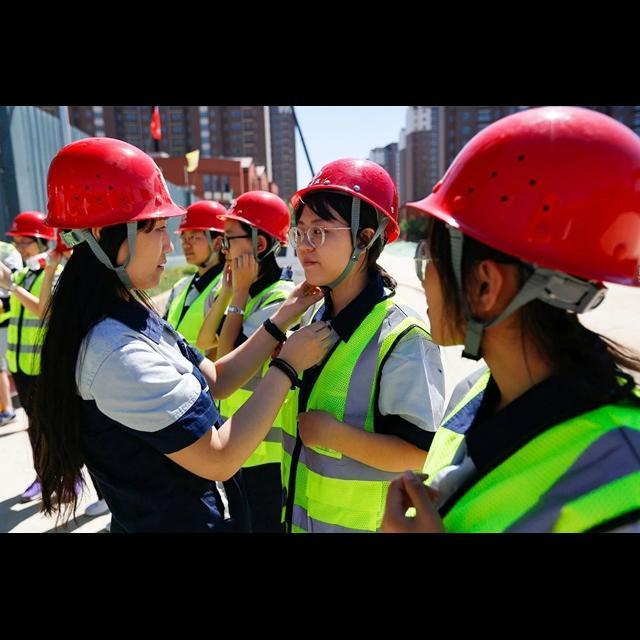helmet: (392, 112, 640, 288), (38, 138, 208, 230), (294, 150, 398, 249), (222, 188, 300, 241), (169, 198, 234, 244), (5, 203, 54, 249)
safety_vest: (421, 352, 640, 542), (285, 303, 414, 540), (216, 291, 292, 465), (3, 268, 48, 380), (168, 270, 211, 338)
